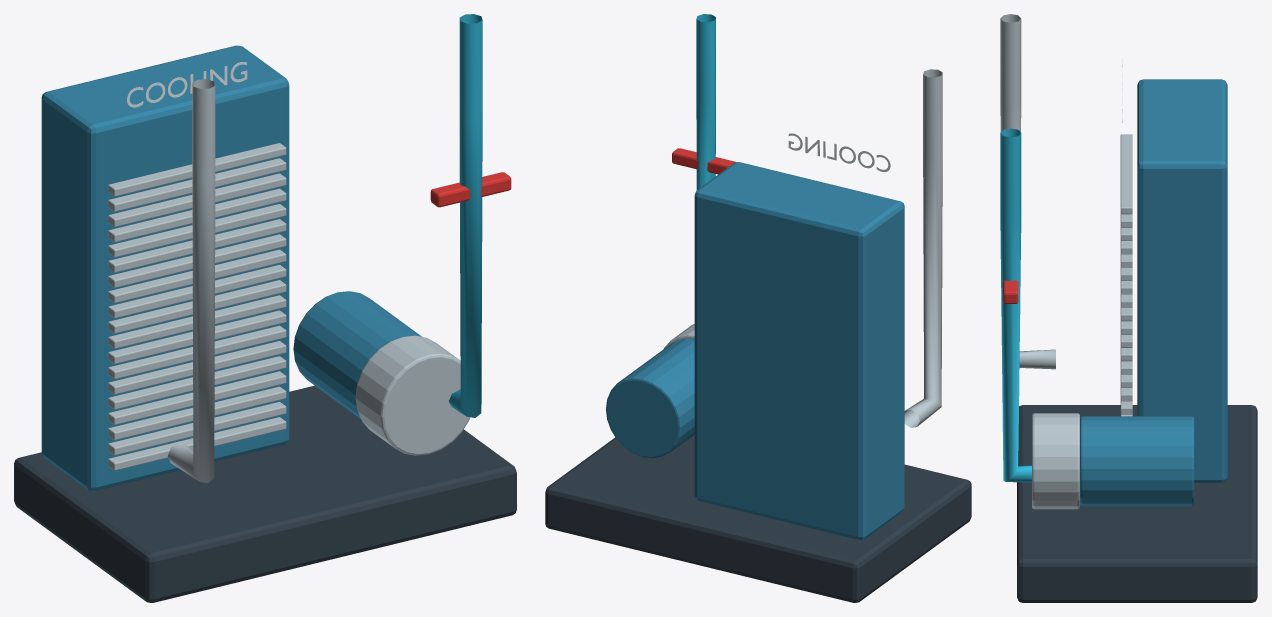
File: cooler.glb
The picture shows the model from 3 angles, left to right: view 1: azimuth 30°, elevation 25°; view 2: azimuth 150°, elevation 25°; view 3: azimuth 270°, elevation 25°; orthographic projection. The views are drawn at different scales.
Parts seen in each view (by area): view 1: Cooling skid, Heat exchanger frame, Heat exchanger fin, Circulation pump, CoolingReturn, CoolingSupply, Circulation motor, Cooling valve handle, Cooling ID; view 2: Heat exchanger frame, Cooling skid, Circulation motor, CoolingReturn, CoolingSupply, Cooling ID, Cooling valve handle; view 3: Heat exchanger frame, Cooling skid, Circulation motor, CoolingSupply, Circulation pump, Heat exchanger fin, CoolingReturn, Cooling valve handle.
Part boxes in pixels (x1,y1,x2,y2): Cooling skid: (14, 385, 516, 602); Heat exchanger frame: (41, 45, 289, 491); Heat exchanger fin: (108, 143, 286, 470); Circulation pump: (355, 335, 470, 455); CoolingReturn: (168, 79, 215, 483); CoolingSupply: (449, 14, 482, 417); Circulation motor: (293, 291, 421, 418); Cooling valve handle: (430, 172, 511, 207); Cooling ID: (126, 62, 247, 107); Heat exchanger frame: (694, 162, 904, 539); Cooling skid: (545, 435, 971, 602); Circulation motor: (606, 338, 694, 458); CoolingReturn: (904, 69, 942, 427); CoolingSupply: (696, 14, 715, 189); Cooling ID: (788, 133, 890, 171); Cooling valve handle: (672, 148, 736, 174); Heat exchanger frame: (1137, 79, 1227, 482); Cooling skid: (1017, 405, 1257, 602); Circulation motor: (1080, 416, 1194, 506); CoolingSupply: (1000, 128, 1031, 482); Circulation pump: (1032, 413, 1079, 509); Heat exchanger fin: (1120, 134, 1132, 416); CoolingReturn: (1000, 14, 1055, 369); Cooling valve handle: (1003, 280, 1018, 303).
Size of the model in its own units: 1.25 by 1.65 by 0.855.
